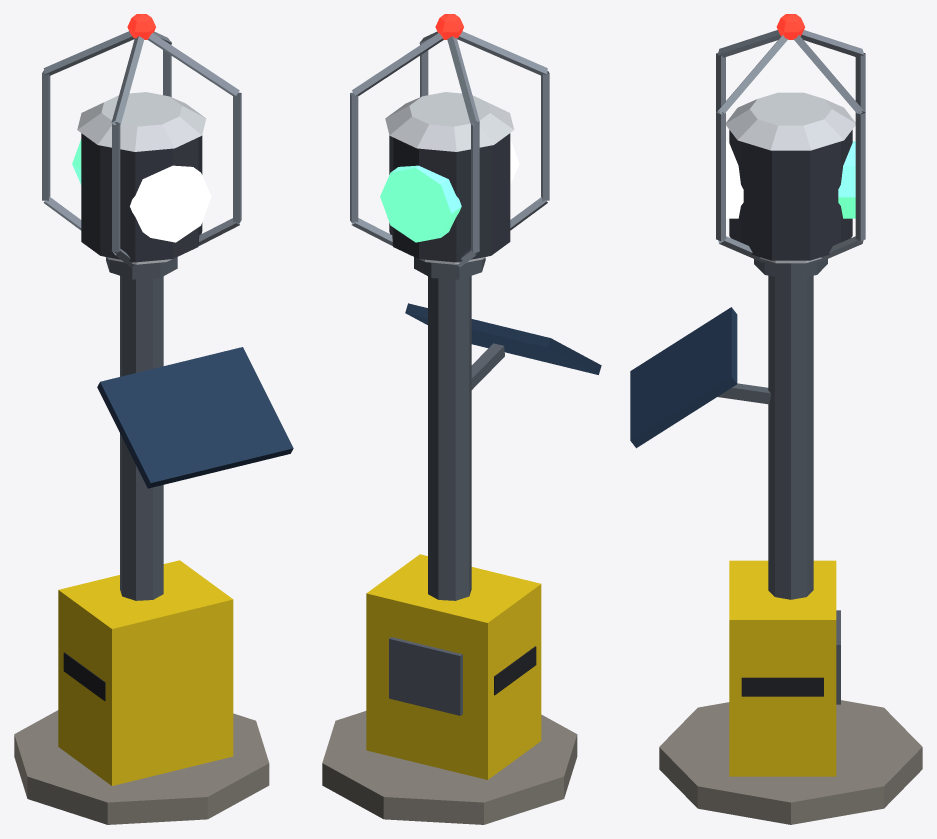
The model's file is helipad_beacon.glb.
3 renders of one model, left to right at view 1: azimuth 30°, elevation 25°; view 2: azimuth 150°, elevation 25°; view 3: azimuth 270°, elevation 25°, orthographic.
Parts seen in each view (by area): view 1: Base, Lamp; view 2: Base, Lamp; view 3: Base, Lamp.
Part boxes in pixels (left/top/right/bottom): Base: left=14, top=14, right=293, bottom=824; Lamp: left=72, top=92, right=211, bottom=264; Base: left=322, top=14, right=601, bottom=824; Lamp: left=380, top=92, right=519, bottom=264; Base: left=630, top=14, right=922, bottom=824; Lamp: left=726, top=92, right=855, bottom=263.
Size of the model in its own units: 0.64 by 2.03 by 0.71.
